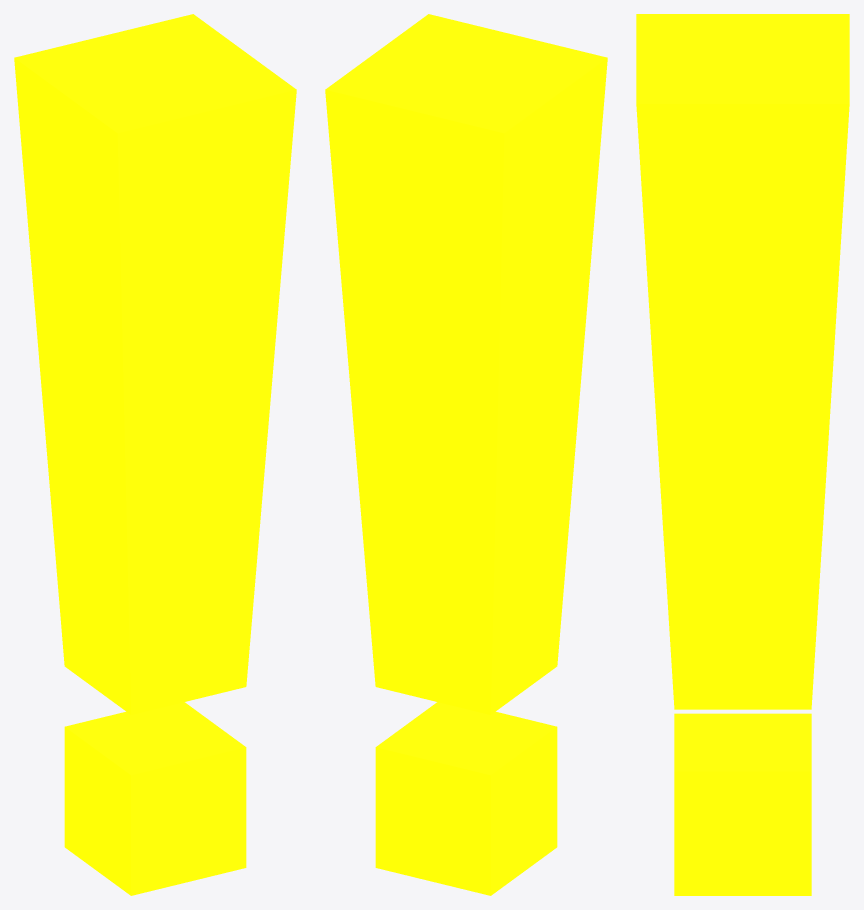
File: exclamation_mark.glb
The picture shows the model from 3 angles, left to right: view 1: azimuth 30°, elevation 25°; view 2: azimuth 150°, elevation 25°; view 3: azimuth 270°, elevation 25°; orthographic projection. The views are drawn at different scales.
Parts seen in each view (by area): view 1: Stick, Dot; view 2: Stick, Dot; view 3: Stick, Dot.
Part boxes in pixels (bbox=[...]): Stick: bbox=[14, 14, 296, 714]; Dot: bbox=[64, 702, 246, 895]; Stick: bbox=[325, 14, 607, 714]; Dot: bbox=[375, 702, 557, 895]; Stick: bbox=[636, 14, 849, 709]; Dot: bbox=[674, 713, 811, 895].
Size of the model in its own units: 0.3111 by 1.3 by 0.3111.
